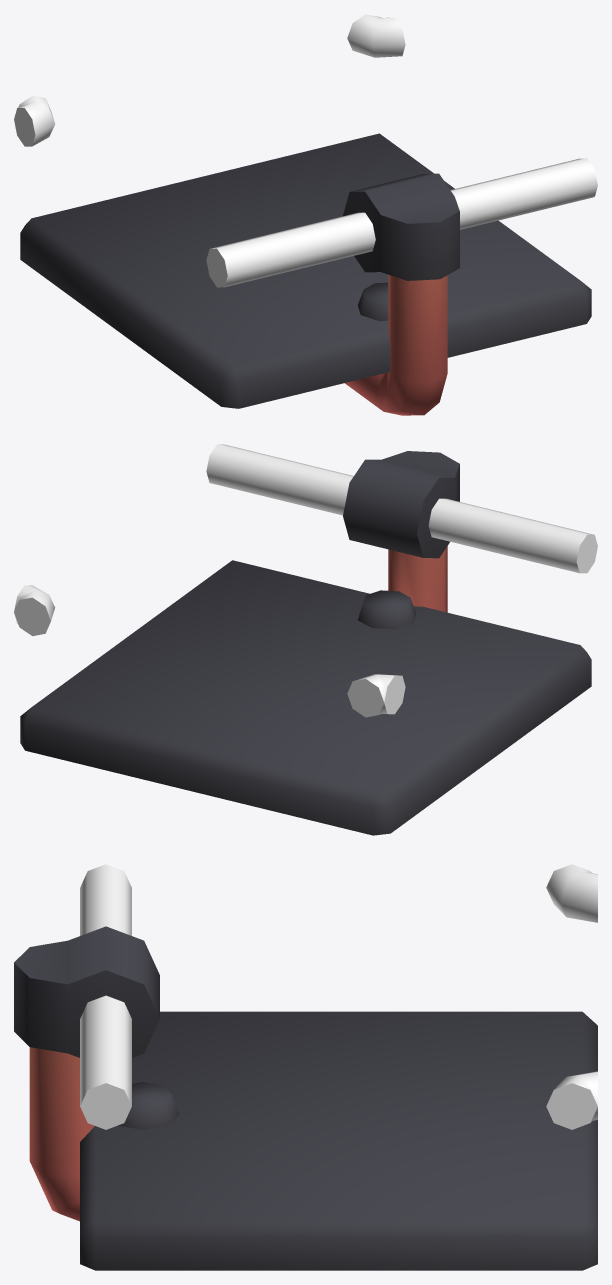
The model's file is catwalk-junction.obj.
3 renders of one model, top to bottom at view 1: azimuth 30°, elevation 25°; view 2: azimuth 150°, elevation 25°; view 3: azimuth 270°, elevation 25°, orthographic. The views are drawn at different scales.
Visible parts, largest first — view 1: catwalk-junction; view 2: catwalk-junction; view 3: catwalk-junction.
Part boxes in pixels (<box>): catwalk-junction: <box>14,14,597,415</box>; catwalk-junction: <box>14,444,597,835</box>; catwalk-junction: <box>14,864,597,1270</box>.
Bounding box in the file's own units: 1 × 0.6014 × 1.13.
